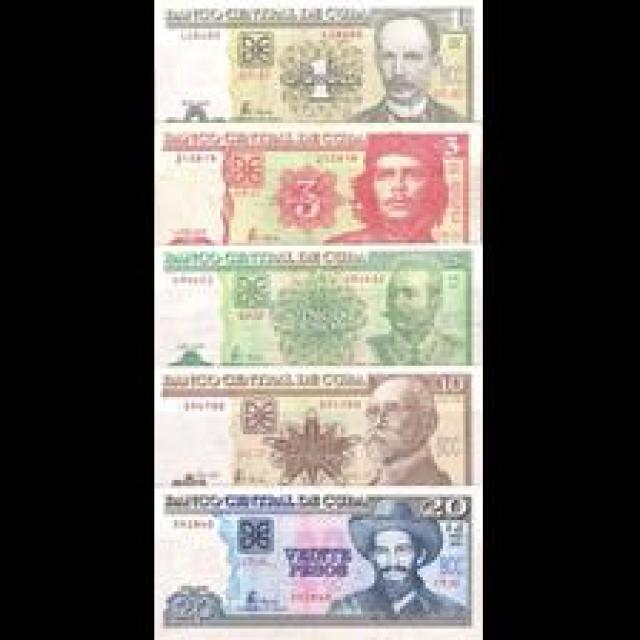banknote: (169, 490, 475, 631), (151, 0, 482, 127), (152, 252, 482, 370), (158, 128, 477, 248), (158, 373, 479, 492)
